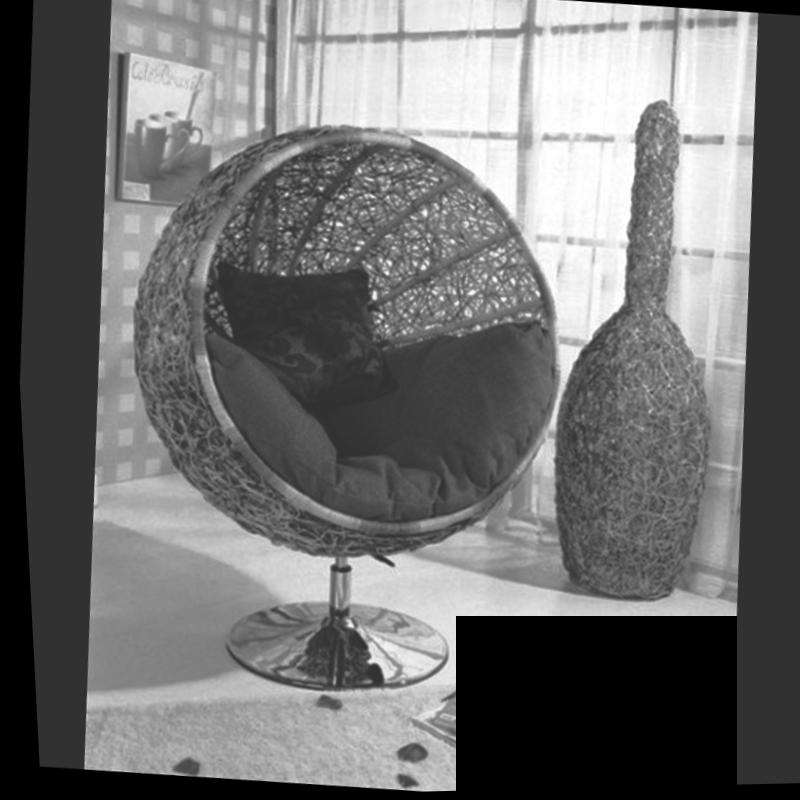pillow: (201, 258, 394, 415)
